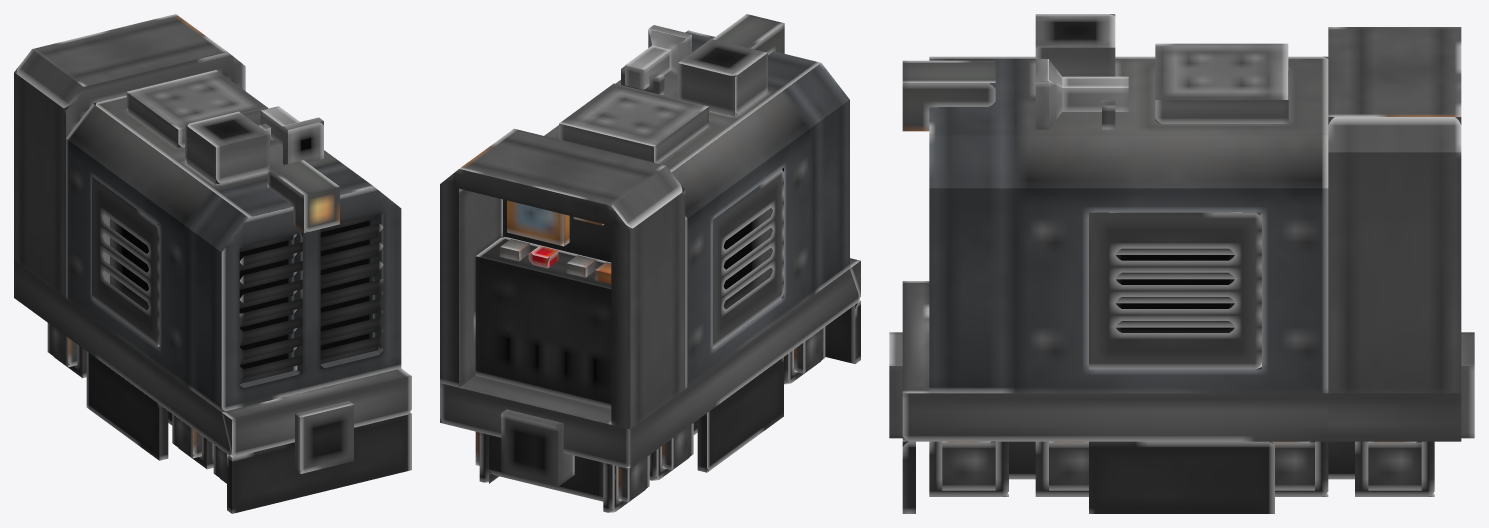
The model's file is pebblebed_locomotive.obj.
The picture shows the model from 3 angles, left to right: view 1: azimuth 30°, elevation 25°; view 2: azimuth 150°, elevation 25°; view 3: azimuth 270°, elevation 25°; orthographic projection. The views are drawn at different scales.
Parts seen in each view (by area): view 1: Cube.001_Cube.010; view 2: Cube.001_Cube.010; view 3: Cube.001_Cube.010.
Boxes of the visible parts, x1,y1,x2,y2 form: Cube.001_Cube.010: (14, 14, 411, 513); Cube.001_Cube.010: (440, 14, 860, 512); Cube.001_Cube.010: (889, 14, 1474, 513).
Bounding box in the file's own units: 12.5 × 21.25 × 27.5.
